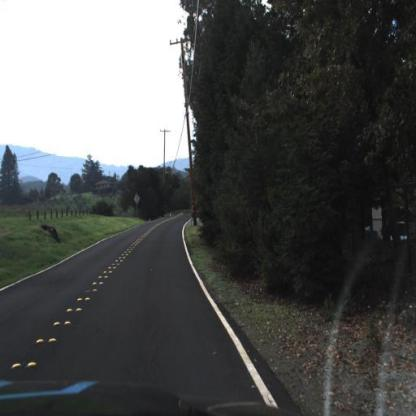car: (188, 202, 204, 223)
